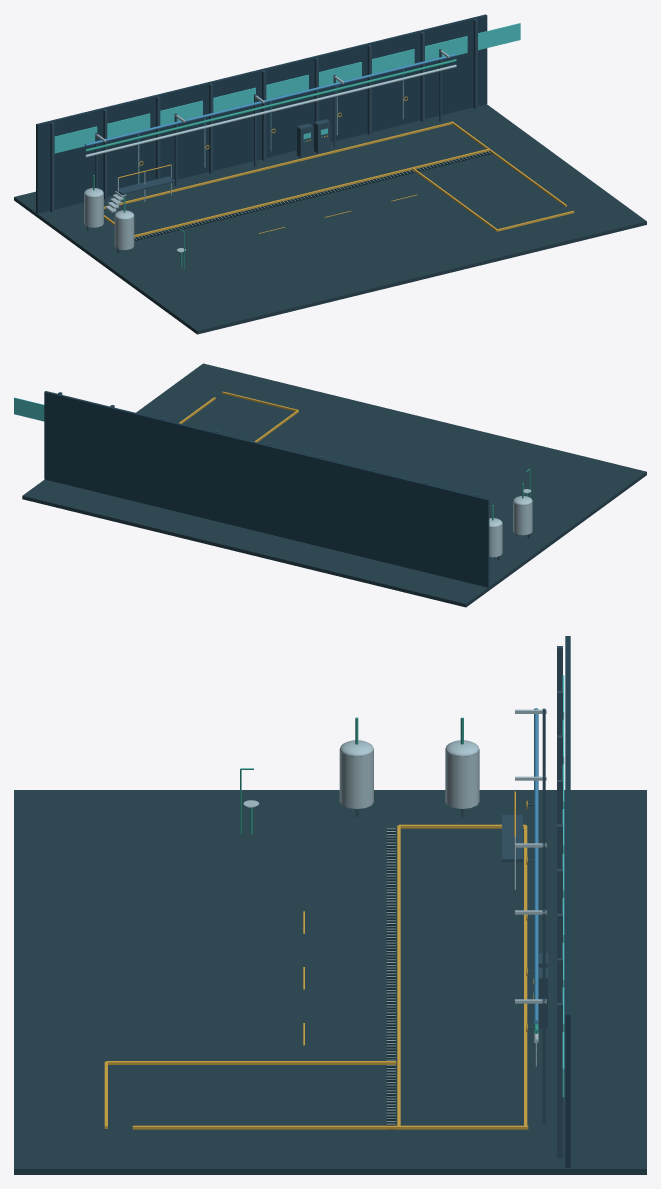
Rendered from chemical-workshop.a925b5865282.glb.
The picture shows the model from 3 angles, top to bottom: view 1: azimuth 30°, elevation 25°; view 2: azimuth 150°, elevation 25°; view 3: azimuth 270°, elevation 25°; orthographic projection. The views are drawn at different scales.
Visible parts, largest first — view 1: epoxy_floor_1, rear_wall_2, utility_header_136, utility_header_152, drain_channel_27, utility_header_168, containment_kerb_22, containment_kerb_21, high_window_20, high_window_4, high_window_6, high_window_12 (+9 smaller); view 2: epoxy_floor_1, rear_wall_2, utility_vessel_209, high_window_20, utility_vessel_204; view 3: epoxy_floor_1, rear_wall_2, drain_channel_27, containment_kerb_24, utility_vessel_204, utility_vessel_209, utility_header_168, containment_kerb_22, containment_kerb_25, containment_kerb_21, service_platform_194, steel_column_19.
Part boxes in pixels (x1,y1,x2,y2): epoxy_floor_1: (14, 104, 646, 334); rear_wall_2: (36, 14, 487, 213); utility_header_136: (85, 64, 456, 157); utility_header_152: (85, 59, 456, 151); drain_channel_27: (134, 151, 491, 240); utility_header_168: (85, 53, 456, 146); containment_kerb_22: (134, 148, 489, 237); containment_kerb_21: (104, 122, 452, 208); high_window_20: (478, 23, 520, 50); high_window_4: (54, 126, 97, 153); high_window_6: (107, 113, 150, 138); high_window_12: (266, 74, 308, 99); epoxy_floor_1: (22, 363, 646, 607); rear_wall_2: (44, 391, 489, 587); utility_vessel_209: (513, 501, 532, 535); high_window_20: (14, 397, 44, 421); utility_vessel_204: (489, 523, 502, 557); epoxy_floor_1: (14, 790, 646, 1174); rear_wall_2: (565, 636, 570, 1167); drain_channel_27: (386, 828, 395, 1129); containment_kerb_24: (132, 1125, 528, 1129); utility_vessel_204: (445, 749, 479, 808); utility_vessel_209: (339, 750, 373, 808); utility_header_168: (534, 708, 538, 1024); containment_kerb_22: (397, 825, 400, 1126); containment_kerb_25: (106, 1061, 396, 1064); containment_kerb_21: (524, 825, 527, 1126); service_platform_194: (502, 814, 522, 861); steel_column_19: (557, 1002, 562, 1157).
Bounding box in the file's own units: 36.45 × 6.69 × 24.
